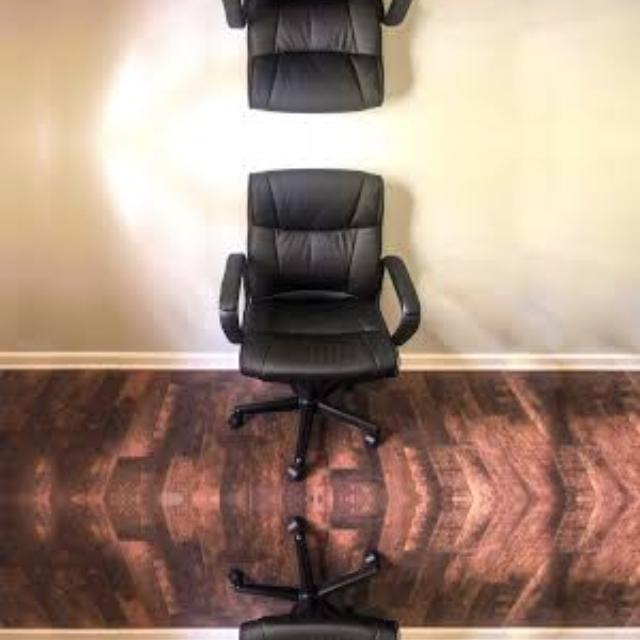obstacle: (184, 147, 476, 498), (183, 498, 476, 640), (183, 0, 476, 132)
